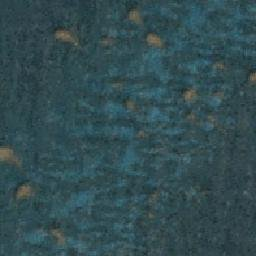debris: (55, 27, 75, 45), (1, 145, 18, 165), (14, 184, 33, 200), (51, 226, 64, 247), (146, 34, 162, 49), (182, 88, 196, 102), (122, 98, 137, 111), (129, 9, 141, 23)
